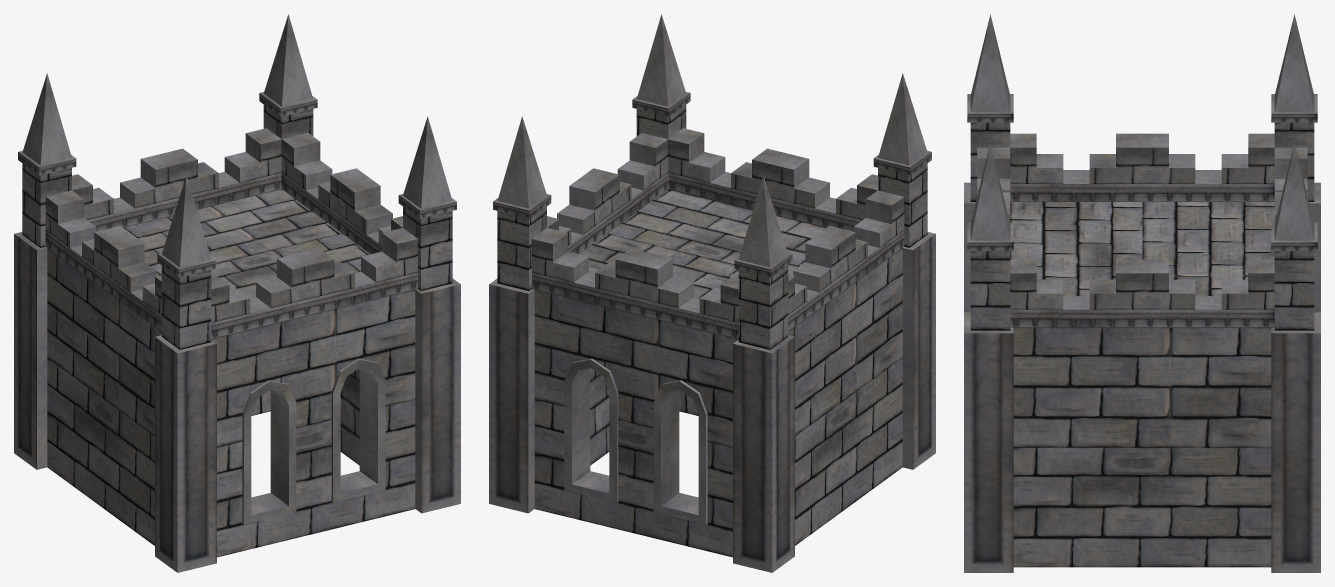
Rendered from tower_cap_02.fbx.
3 views of the same model, side by side, from view 1: azimuth 30°, elevation 25°; view 2: azimuth 150°, elevation 25°; view 3: azimuth 270°, elevation 25° (orthographic). The views are drawn at different scales.
Visible parts, largest first — view 1: tower_cap_02; view 2: tower_cap_02; view 3: tower_cap_02.
Part boxes in pixels (x1=…): tower_cap_02: x1=14, y1=14, x2=460, y2=572; tower_cap_02: x1=489, y1=14, x2=935, y2=572; tower_cap_02: x1=964, y1=14, x2=1320, y2=572.
Bounding box in the file's own units: 1080 × 1400 × 1080.
